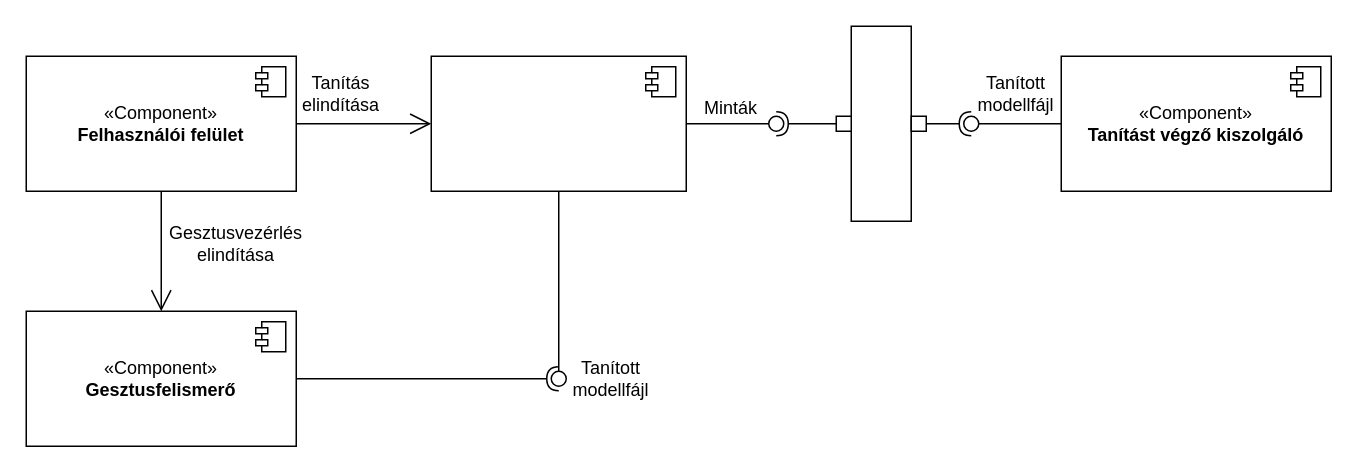
The diagram is 1358 pixels wide and 473 high, and some of its shapes have lost their labels. Each missing label, with the centre of its shape:
"REST API" belongs at (x=880, y=123).
"«Component» Tanítás kezelését végző komponens" belongs at (x=558, y=123).
